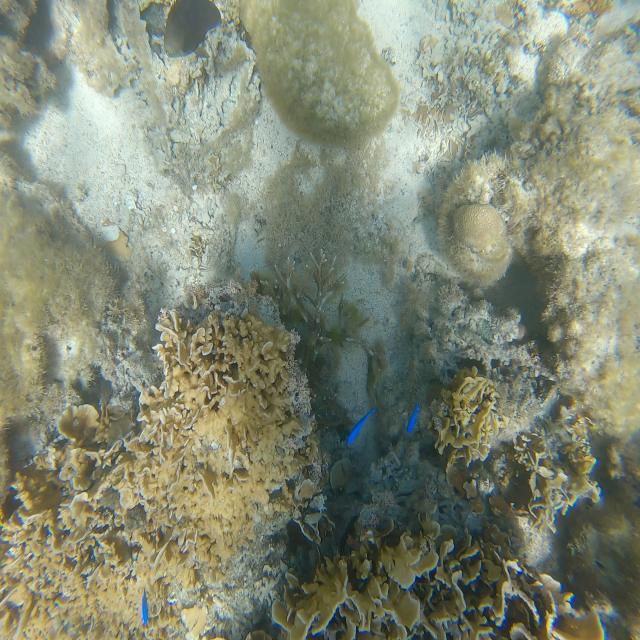kurohagi: (164, 0, 220, 56)
rurisuzumedai: (348, 409, 375, 444), (407, 403, 419, 433), (142, 592, 148, 625)
